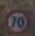limite 70: (5, 9, 30, 34)
